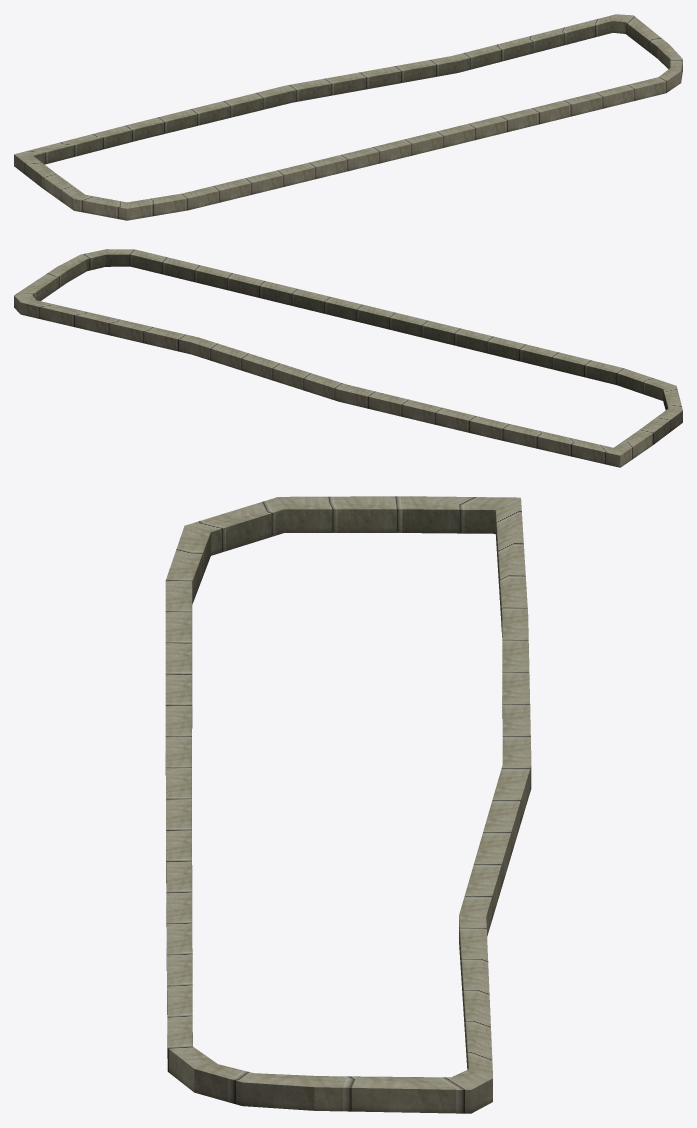
Rendered from flower_bed_004.FBX.
3 views of the same model, one above another, from view 1: azimuth 30°, elevation 25°; view 2: azimuth 150°, elevation 25°; view 3: azimuth 270°, elevation 25° (orthographic). The views are drawn at different scales.
Visible parts, largest first — view 1: flower_bed_004; view 2: flower_bed_004; view 3: flower_bed_004.
Part boxes in pixels (bbox=[...]): flower_bed_004: bbox=[14, 14, 682, 220]; flower_bed_004: bbox=[14, 249, 682, 467]; flower_bed_004: bbox=[165, 496, 531, 1113].
Bounding box in the file's own units: 11521 × 214 × 3000.
